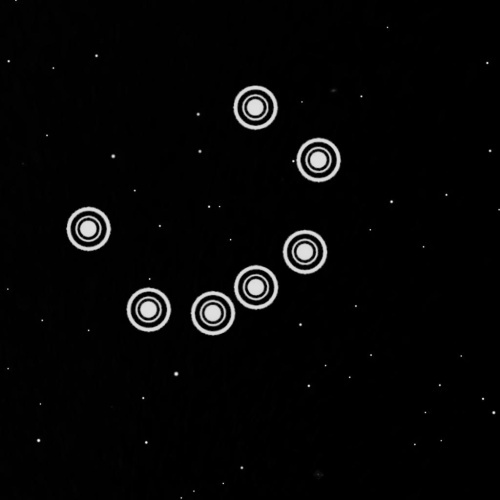corona_borealis: (60, 64, 349, 344)
